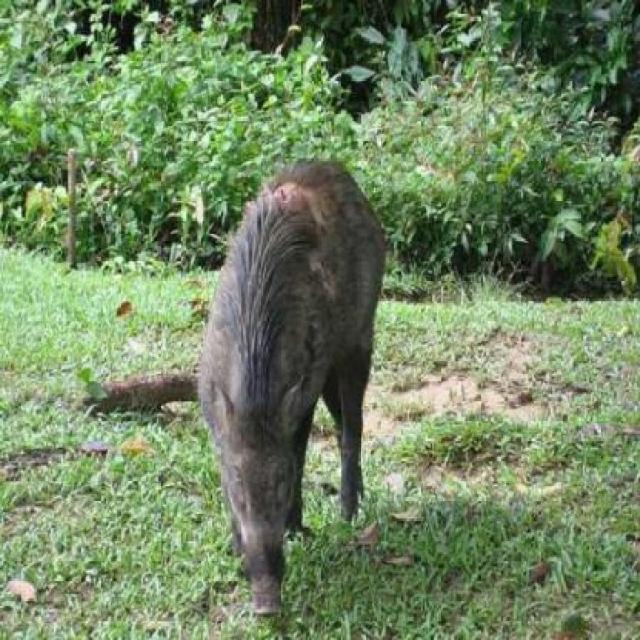pig: (154, 103, 423, 639)
